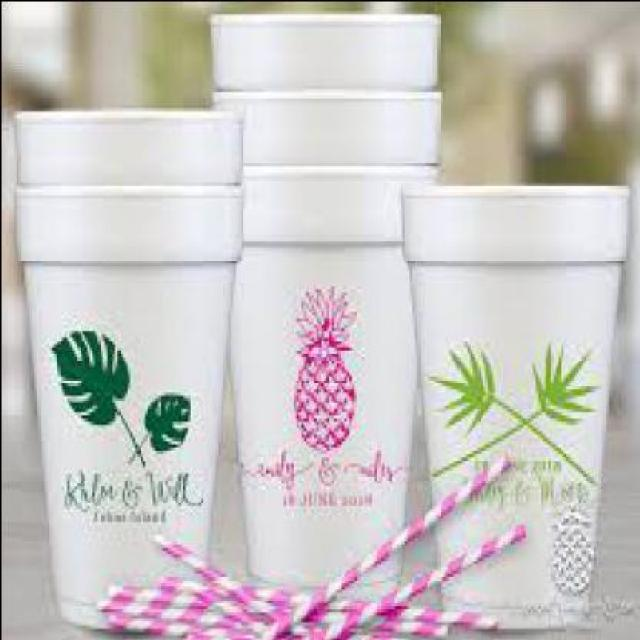PAPER: (206, 9, 442, 582), (10, 107, 238, 624), (396, 181, 624, 624), (12, 178, 230, 624), (230, 165, 438, 584)
